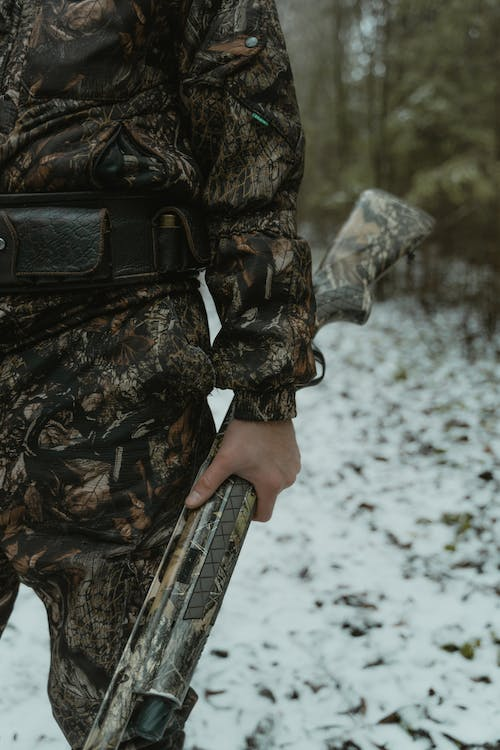gun: (80, 184, 439, 750)
